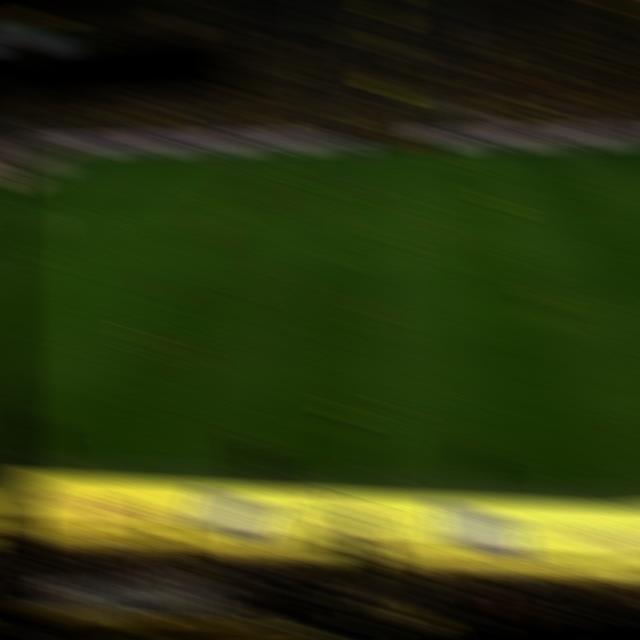bigarea_top_inner: (116, 170, 148, 187)
bigarea_top_outter: (11, 169, 43, 185)
bottom_arc_area_intersection: (6, 247, 40, 263)
corner: (57, 146, 89, 162)
halfcircle_bottom: (366, 257, 399, 275)
halfcircle_top: (370, 191, 401, 209)
midline_bottom_intersection: (355, 464, 393, 488)
midline_top_intersection: (372, 142, 404, 158)
smallarea_top_inner: (0, 194, 32, 211)
top_arc_area_intersection: (75, 199, 107, 216)
